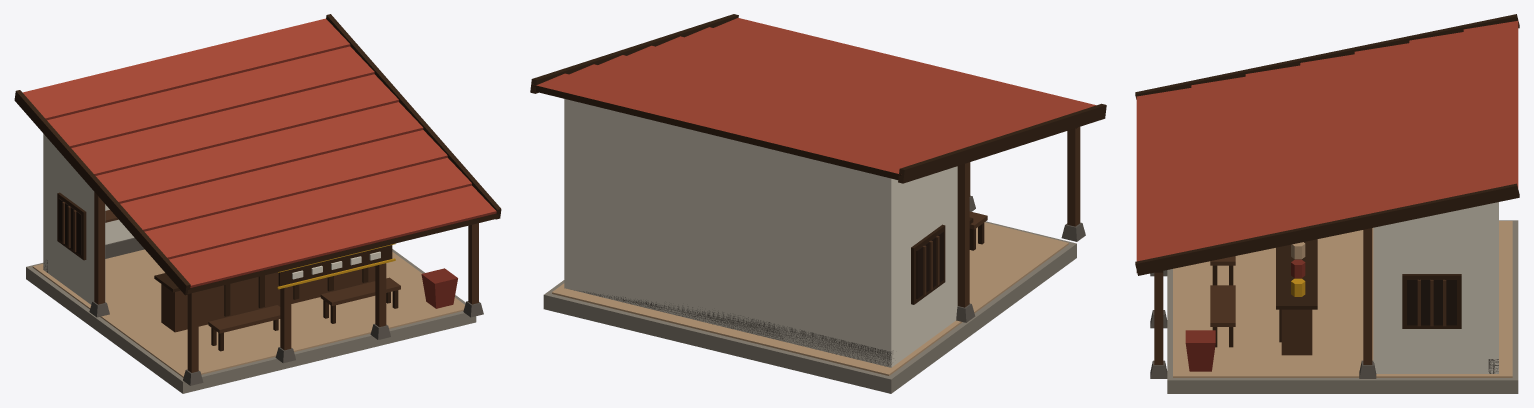
File: rumah_panggangpe.glb
3 renders of one model, left to right at view 1: azimuth 30°, elevation 25°; view 2: azimuth 150°, elevation 25°; view 3: azimuth 270°, elevation 25°, orthographic. The views are drawn at different scales.
Visible parts, largest first — view 1: rumah_panggangpe; view 2: rumah_panggangpe; view 3: rumah_panggangpe.
Boxes of the visible parts, left/top/right/bottom form: rumah_panggangpe: left=14, top=14, right=501, bottom=393; rumah_panggangpe: left=530, top=14, right=1106, bottom=393; rumah_panggangpe: left=1135, top=14, right=1519, bottom=393.
Size of the model in its own units: 7.3 by 4.24 by 6.9.
